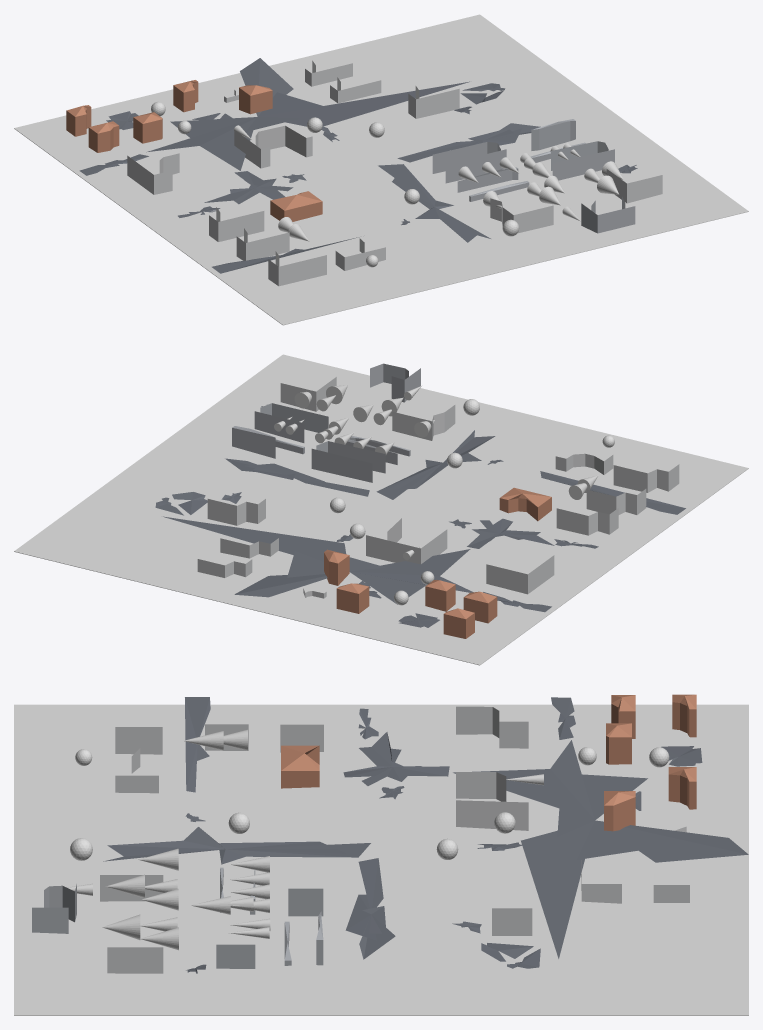
3 renders of one model, top to bottom at view 1: azimuth 30°, elevation 25°; view 2: azimuth 150°, elevation 25°; view 3: azimuth 270°, elevation 25°, orthographic. The views are drawn at different scales.
Parts seen in each view (by area): view 1: Ground_Base, Road_Corridors, B013, B011, B018, B010, B021, B012, B015, B025, B009, B022 (+12 smaller); view 2: Ground_Base, Road_Corridors, B013, B018, B011, B010, B021, B012, B009, B019, B015, B025 (+11 smaller); view 3: Ground_Base, Road_Corridors, B011, B010, B025, B015, B023, B021, B006, B009, B002, B007 (+11 smaller).
Part boxes in pixels (x1,y1,x2,y2): Ground_Base: (14, 14, 748, 325); Road_Corridors: (79, 58, 637, 273); B013: (432, 142, 506, 183); B011: (234, 125, 312, 168); B018: (551, 141, 614, 180); B010: (127, 153, 179, 194); B021: (268, 251, 326, 286); B012: (209, 207, 264, 241); B015: (270, 191, 322, 221); B025: (581, 196, 635, 233); B009: (408, 86, 459, 118); B022: (490, 198, 553, 233); Ground_Base: (14, 354, 748, 665); Road_Corridors: (155, 404, 685, 627); B013: (311, 441, 385, 482); B018: (254, 403, 328, 442); B011: (366, 518, 447, 564); B010: (486, 555, 554, 594); B021: (613, 464, 679, 492); B012: (556, 508, 618, 535); B009: (207, 499, 265, 525); B019: (586, 489, 646, 514); B015: (499, 487, 551, 521); B025: (370, 363, 420, 402); Ground_Base: (14, 704, 748, 1015); Road_Corridors: (103, 697, 748, 973); B011: (456, 772, 528, 830); B010: (456, 706, 528, 748); B025: (32, 884, 76, 933); B015: (281, 745, 319, 788); B023: (107, 947, 163, 973); B021: (115, 727, 162, 754); B006: (604, 791, 635, 831); B009: (492, 908, 532, 935); B002: (668, 767, 696, 809); B007: (606, 723, 631, 764).
Size of the model in its own units: 410 by 26.04 by 410.
